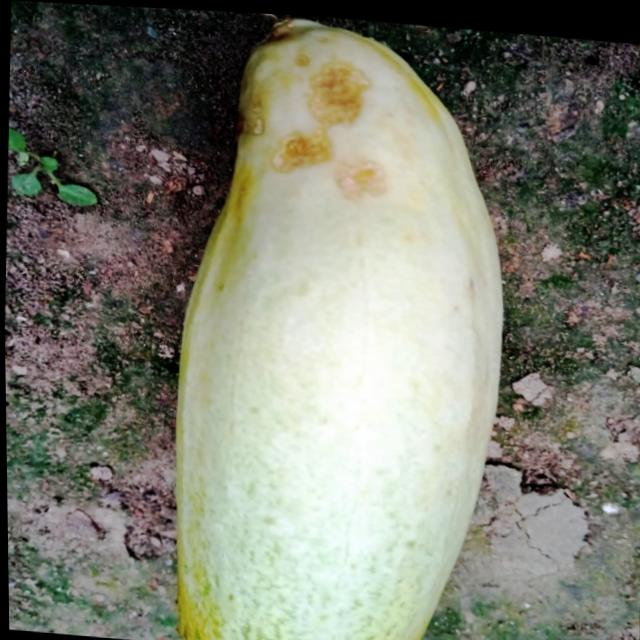Belly-Rot: (230, 38, 399, 218)
